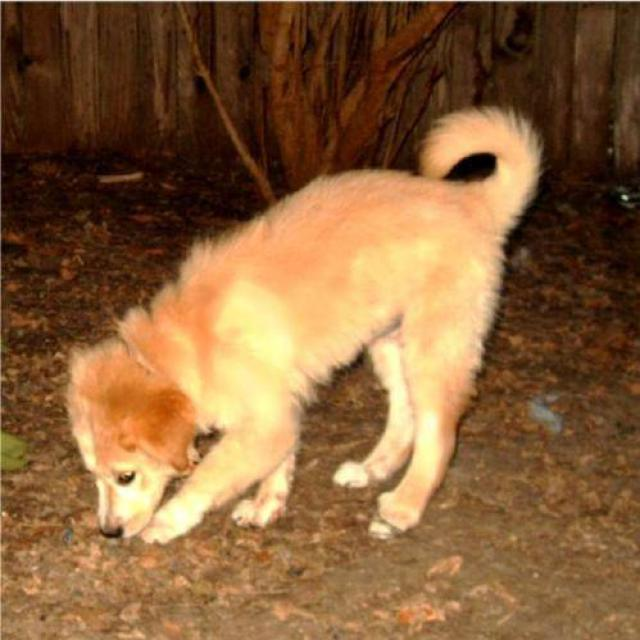dog: (63, 103, 544, 546)
